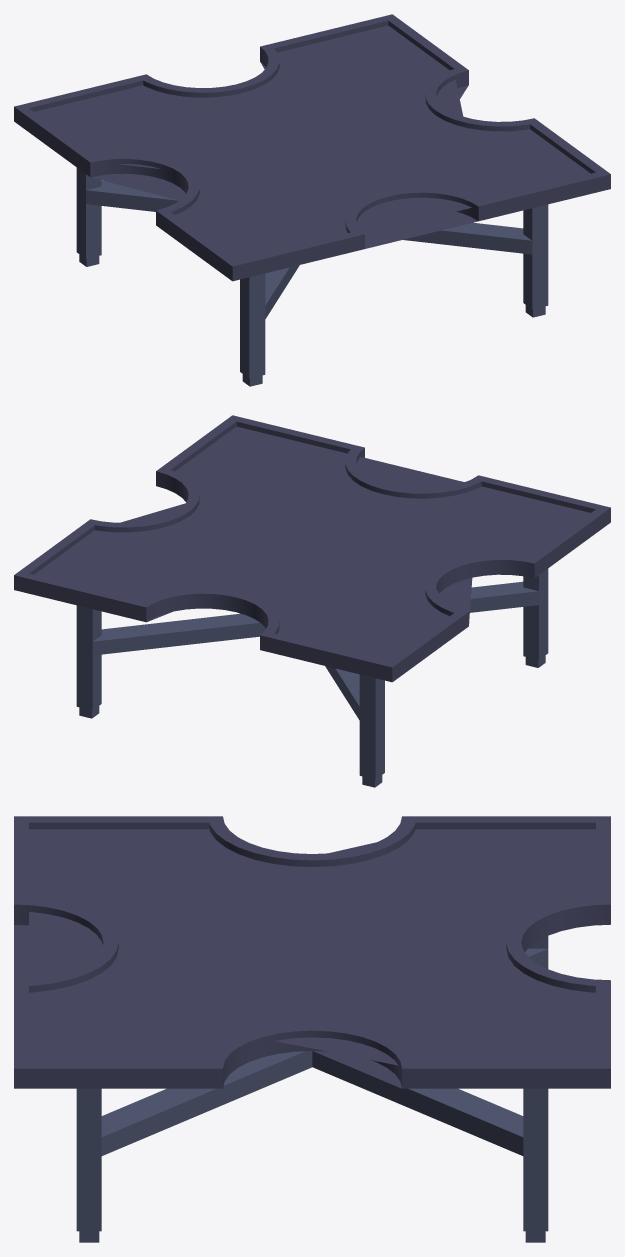
The model's file is capstone.fbx.
3 renders of one model, top to bottom at view 1: azimuth 30°, elevation 25°; view 2: azimuth 150°, elevation 25°; view 3: azimuth 270°, elevation 25°, orthographic. The views are drawn at different scales.
Visible parts, largest first — view 1: Cube.026, Cube.053; view 2: Cube.026, Cube.053; view 3: Cube.026, Cube.053.
Boxes of the visible parts, x1,y1,x2,y2 form: Cube.026: (14,14,610,281); Cube.053: (76,167,548,386); Cube.026: (14,415,610,682); Cube.053: (76,568,548,787); Cube.026: (14,816,610,1088); Cube.053: (76,936,548,1242).
Size of the model in its own units: 8 by 2.98 by 8.
